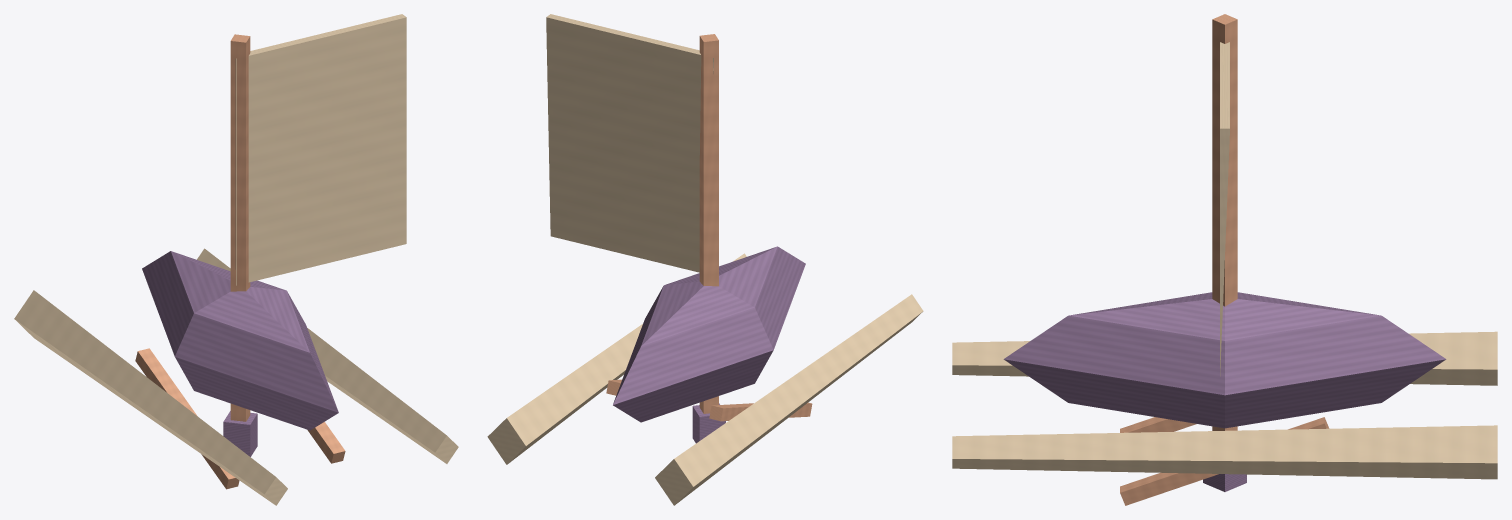
Rendered from atlas100-s089-a01.glb.
3 views of the same model, side by side, from view 1: azimuth 30°, elevation 25°; view 2: azimuth 150°, elevation 25°; view 3: azimuth 270°, elevation 25° (orthographic). The views are drawn at different scales.
Visible parts, largest first — view 1: atlas100-s089-a01:part-007, atlas100-s089-a01:part-000, atlas100-s089-a01:part-003, atlas100-s089-a01:part-005, atlas100-s089-a01:part-004, atlas100-s089-a01:part-001, atlas100-s089-a01:part-006, atlas100-s089-a01:part-002; view 2: atlas100-s089-a01:part-007, atlas100-s089-a01:part-000, atlas100-s089-a01:part-003, atlas100-s089-a01:part-004, atlas100-s089-a01:part-005, atlas100-s089-a01:part-001, atlas100-s089-a01:part-006; view 3: atlas100-s089-a01:part-000, atlas100-s089-a01:part-004, atlas100-s089-a01:part-003, atlas100-s089-a01:part-005, atlas100-s089-a01:part-007, atlas100-s089-a01:part-002, atlas100-s089-a01:part-001.
Boxes of the visible parts, x1,y1,x2,y2 form: atlas100-s089-a01:part-007: (235, 14, 406, 285); atlas100-s089-a01:part-000: (142, 251, 338, 430); atlas100-s089-a01:part-003: (14, 290, 287, 505); atlas100-s089-a01:part-005: (230, 34, 250, 421); atlas100-s089-a01:part-004: (197, 248, 458, 463); atlas100-s089-a01:part-001: (135, 348, 239, 489); atlas100-s089-a01:part-006: (223, 411, 257, 456); atlas100-s089-a01:part-002: (307, 422, 345, 463); atlas100-s089-a01:part-007: (546, 14, 713, 272); atlas100-s089-a01:part-000: (613, 246, 805, 422); atlas100-s089-a01:part-003: (655, 294, 923, 505); atlas100-s089-a01:part-004: (487, 253, 746, 464); atlas100-s089-a01:part-005: (699, 34, 718, 413); atlas100-s089-a01:part-001: (709, 402, 812, 421); atlas100-s089-a01:part-006: (692, 403, 725, 443); atlas100-s089-a01:part-000: (1003, 292, 1446, 428); atlas100-s089-a01:part-004: (952, 425, 1497, 479); atlas100-s089-a01:part-003: (952, 331, 1497, 385); atlas100-s089-a01:part-005: (1212, 14, 1237, 430); atlas100-s089-a01:part-007: (1220, 42, 1229, 376); atlas100-s089-a01:part-002: (1120, 417, 1329, 505); atlas100-s089-a01:part-001: (1120, 417, 1196, 432).
Size of the model in its own units: 2.05 by 3 by 3.2.
3 materials, 3 textured.
